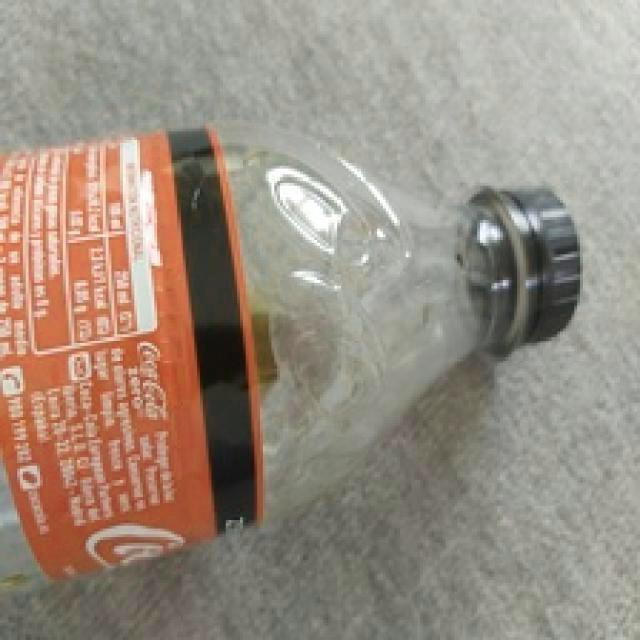bottle: (2, 128, 583, 593)
